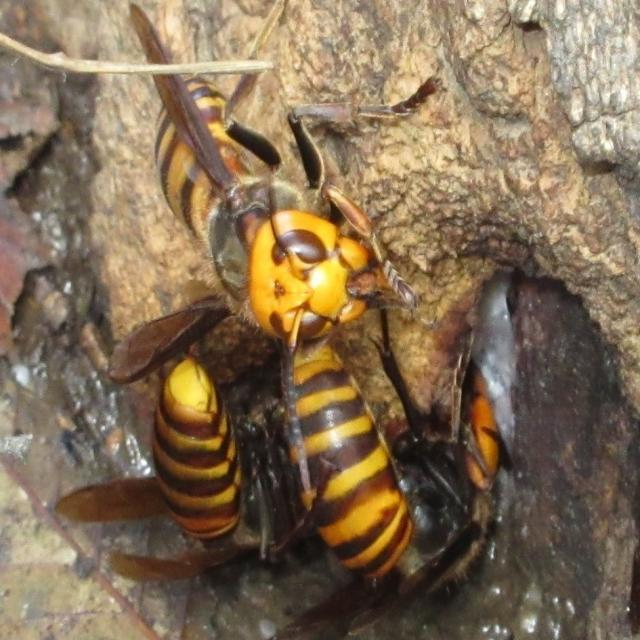Wasp: (124, 13, 384, 334), (276, 347, 509, 615), (89, 346, 266, 593)
